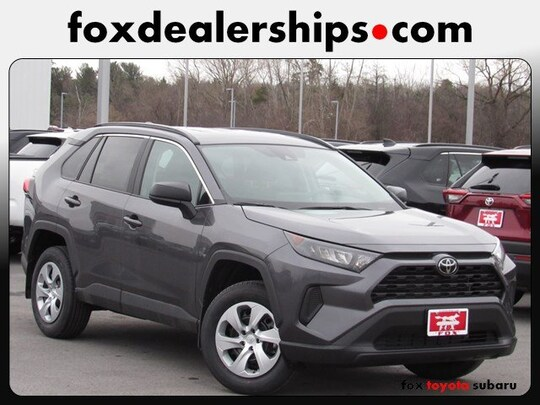Toyota RAV-4: (22, 121, 518, 393)
